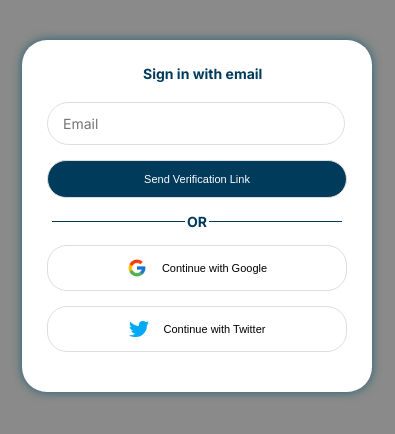
Scenario: SignIn Component › displays error message when sending email fails
The width and height of the screenshot is (395, 434).
Type "test@example.com" into the field with placeholder "Email".
click(196, 124); type("test@example.com")  # box [47, 102, 345, 145]
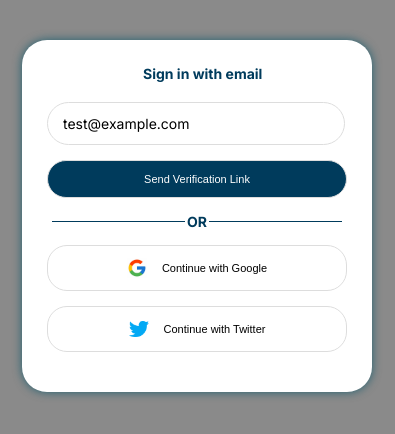
Click the button "Send Verification Link".
click(197, 179)  # box [47, 160, 347, 198]
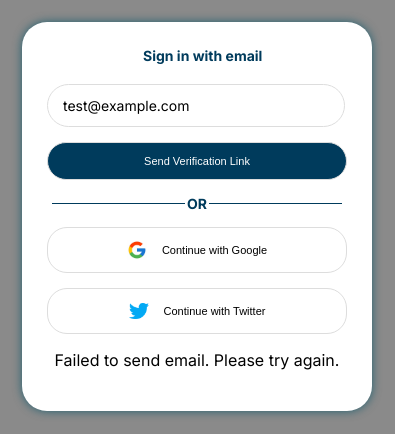
Now the text "Failed to send email. Please try again." is shown, box [47, 350, 347, 370]
